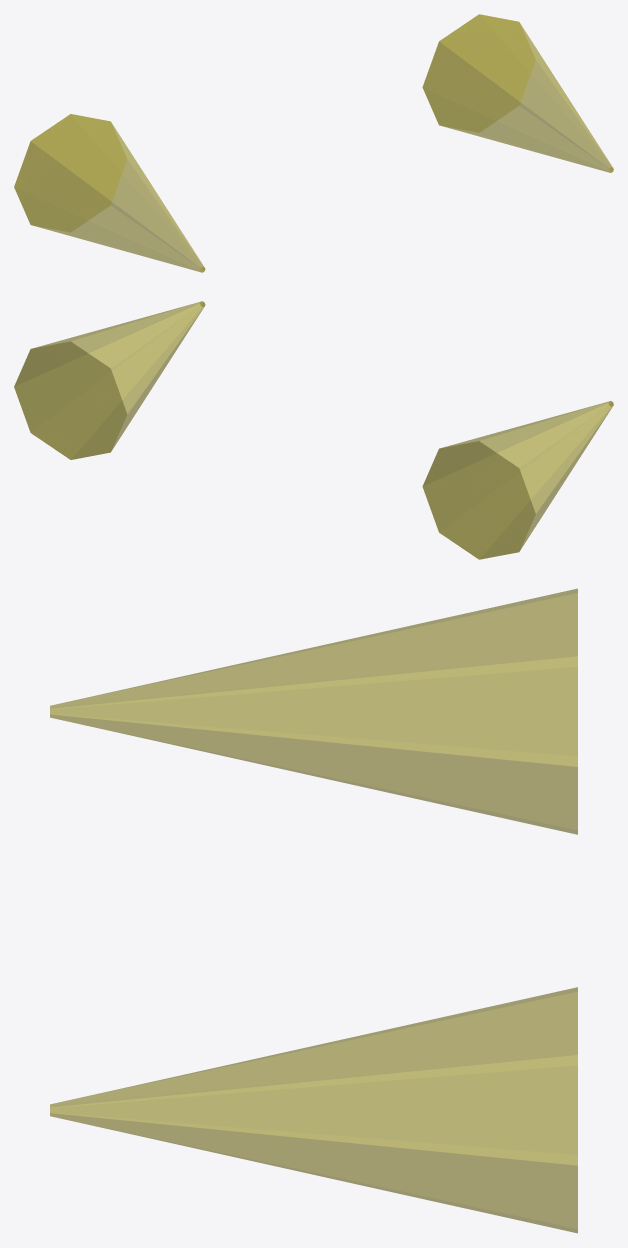
File: Bunner_Su27HaruhiNG.obj
3 views of the same model, one above another, from view 1: azimuth 30°, elevation 25°; view 2: azimuth 150°, elevation 25°; view 3: azimuth 270°, elevation 25° (orthographic). The views are drawn at different scales.
Parts seen in each view (by area): view 1: ShapeIndexedFaceSet.019_ShapeIndexedFaceSet.020, ShapeIndexedFaceSet.017_ShapeIndexedFaceSet.018, ShapeIndexedFaceSet.018_ShapeIndexedFaceSet.019, ShapeIndexedFaceSet.016_ShapeIndexedFaceSet.017; view 2: ShapeIndexedFaceSet.018_ShapeIndexedFaceSet.019, ShapeIndexedFaceSet.016_ShapeIndexedFaceSet.017, ShapeIndexedFaceSet.017_ShapeIndexedFaceSet.018, ShapeIndexedFaceSet.019_ShapeIndexedFaceSet.020; view 3: ShapeIndexedFaceSet.017_ShapeIndexedFaceSet.018, ShapeIndexedFaceSet.019_ShapeIndexedFaceSet.020.
Part boxes in pixels (x1,y1,x2,y2): ShapeIndexedFaceSet.019_ShapeIndexedFaceSet.020: (422, 14, 612, 172); ShapeIndexedFaceSet.017_ShapeIndexedFaceSet.018: (14, 114, 204, 271); ShapeIndexedFaceSet.018_ShapeIndexedFaceSet.019: (422, 14, 613, 172); ShapeIndexedFaceSet.016_ShapeIndexedFaceSet.017: (14, 114, 205, 272); ShapeIndexedFaceSet.018_ShapeIndexedFaceSet.019: (14, 301, 205, 459); ShapeIndexedFaceSet.016_ShapeIndexedFaceSet.017: (422, 401, 613, 559); ShapeIndexedFaceSet.017_ShapeIndexedFaceSet.018: (440, 401, 613, 551); ShapeIndexedFaceSet.019_ShapeIndexedFaceSet.020: (32, 301, 205, 451); ShapeIndexedFaceSet.017_ShapeIndexedFaceSet.018: (50, 588, 577, 834); ShapeIndexedFaceSet.019_ShapeIndexedFaceSet.020: (50, 987, 577, 1233).
Size of the model in its own units: 29.9 by 6.5 by 13.1.
